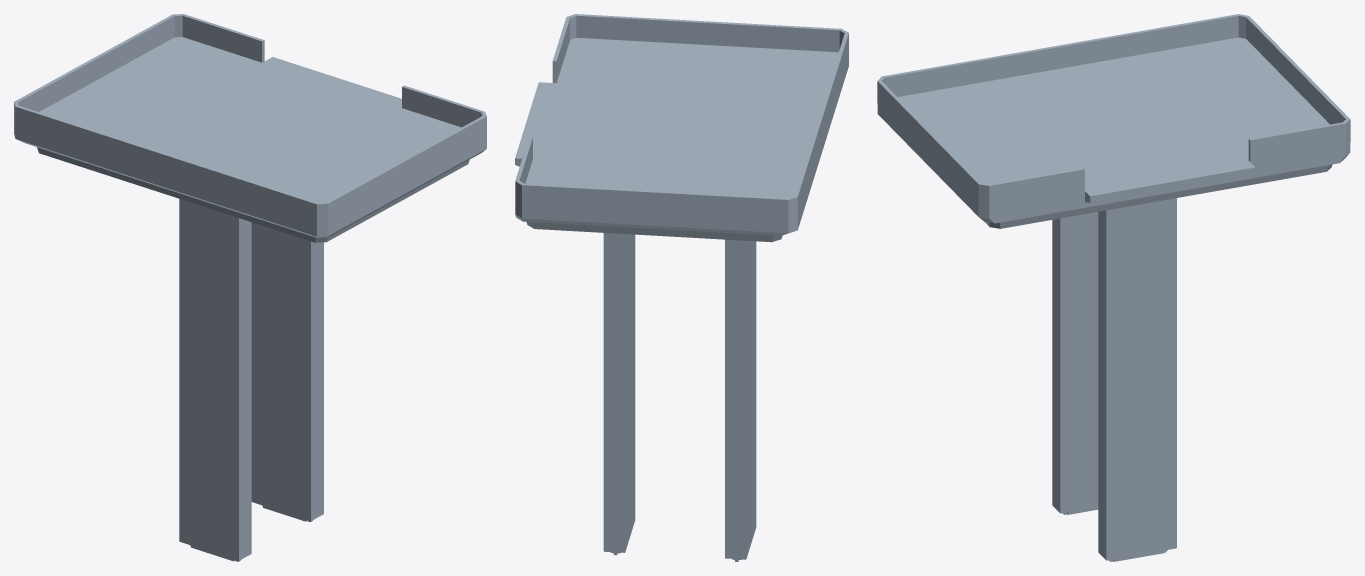
Rendered from Transport_r.fbx.
3 renders of one model, left to right at view 1: azimuth 30°, elevation 25°; view 2: azimuth 150°, elevation 25°; view 3: azimuth 270°, elevation 25°, orthographic. The views are drawn at different scales.
Visible parts, largest first — view 1: 立方体.154; view 2: 立方体.154; view 3: 立方体.154.
Boxes of the visible parts, x1,y1,x2,y2 form: 立方体.154: (14,14,486,561); 立方体.154: (515,14,848,561); 立方体.154: (877,14,1350,561).
Size of the model in its own units: 921 by 1071 by 1079.
